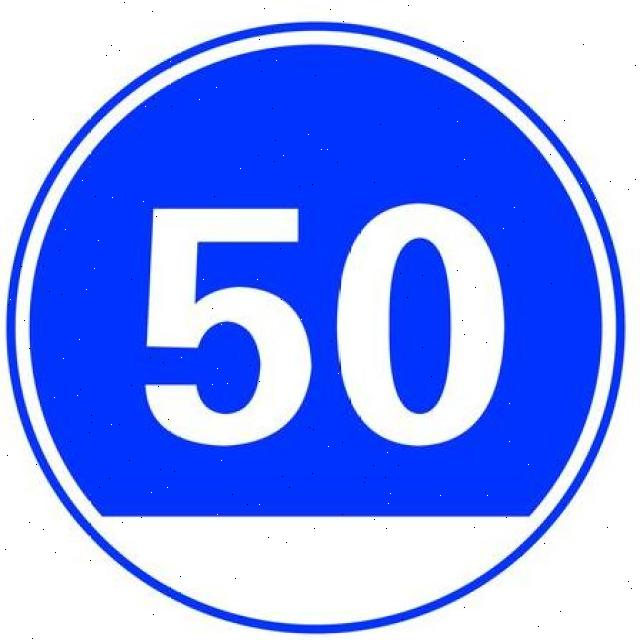speed limit 50: (3, 21, 625, 634)
